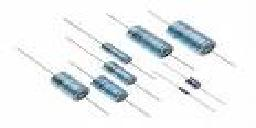Electrolytic-capacitor: (20, 47, 112, 125), (164, 17, 224, 55), (125, 26, 179, 59), (102, 41, 137, 62)
